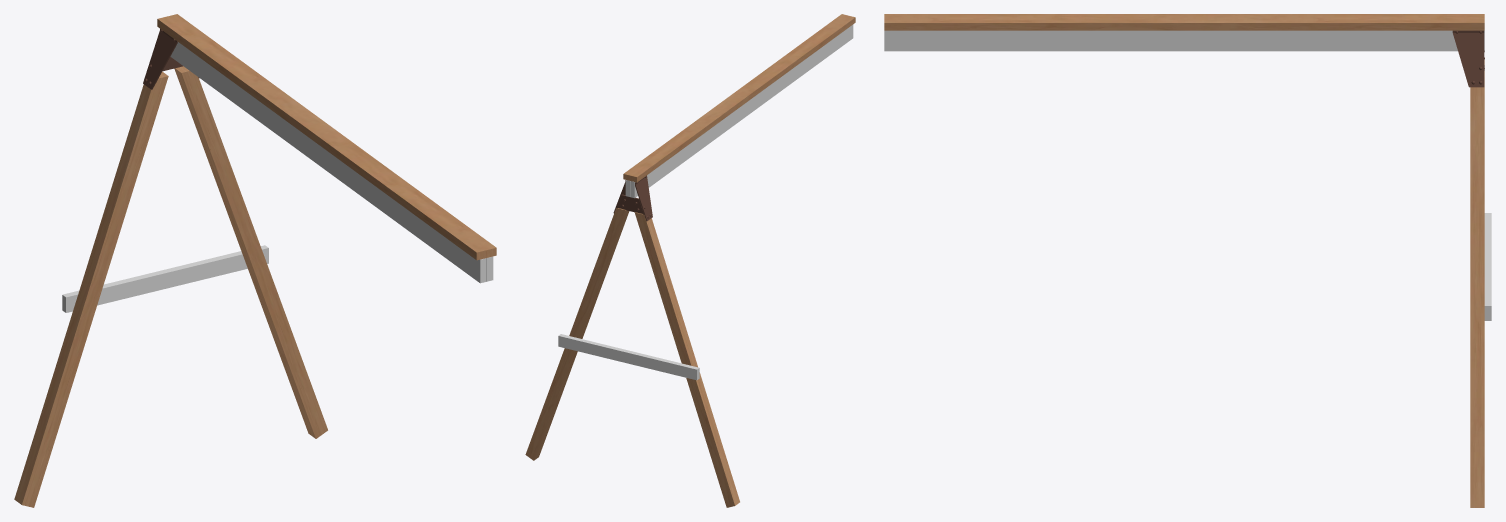
3 views of the same model, side by side, from view 1: azimuth 30°, elevation 25°; view 2: azimuth 150°, elevation 25°; view 3: azimuth 270°, elevation 25° (orthographic). The views are drawn at different scales.
Visible parts, largest first — view 1: Plane049, Plane049_1,_colorize_, Plane049_2; view 2: Plane049, Plane049_1,_colorize_, Plane049_2; view 3: Plane049, Plane049_1,_colorize_, Plane049_2.
Boxes of the visible parts, x1=… form: Plane049: x1=14, y1=14, x2=496, y2=507; Plane049_1,_colorize_: x1=62, y1=42, x2=493, y2=312; Plane049_2: x1=143, y1=29, x2=199, y2=89; Plane049: x1=525, y1=14, x2=855, y2=507; Plane049_1,_colorize_: x1=558, y1=24, x2=853, y2=380; Plane049_2: x1=613, y1=175, x2=652, y2=221; Plane049: x1=884, y1=14, x2=1484, y2=507; Plane049_1,_colorize_: x1=884, y1=30, x2=1491, y2=320; Plane049_2: x1=1452, y1=30, x2=1484, y2=87.
Bounding box in the file's own units: 2.36 × 3.33 × 4.32.
3 materials, 1 textured.
